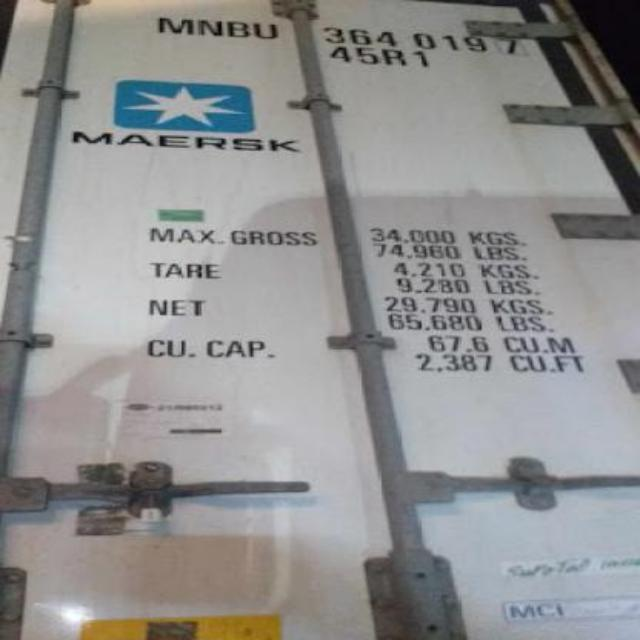0: (410, 28, 438, 48)
1: (438, 25, 459, 51)
3: (322, 18, 343, 44)
4: (374, 22, 402, 48)
6: (348, 19, 374, 46)
7: (494, 29, 528, 61)
9: (464, 26, 488, 56)
B: (228, 14, 248, 42)
M: (157, 12, 193, 38)
N: (194, 14, 224, 42)
U: (250, 13, 282, 43)
